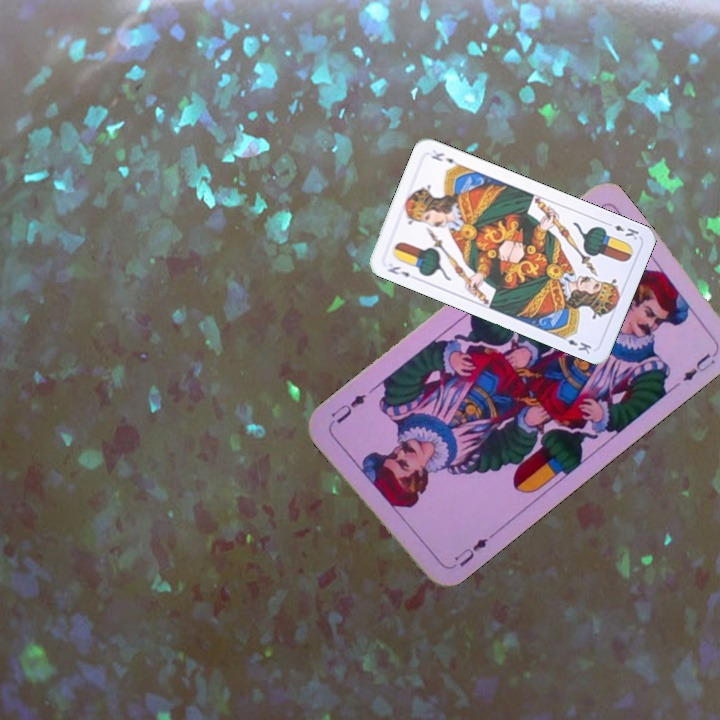EK: (602, 218, 642, 242), (383, 262, 412, 280)
EU: (445, 534, 491, 572)
